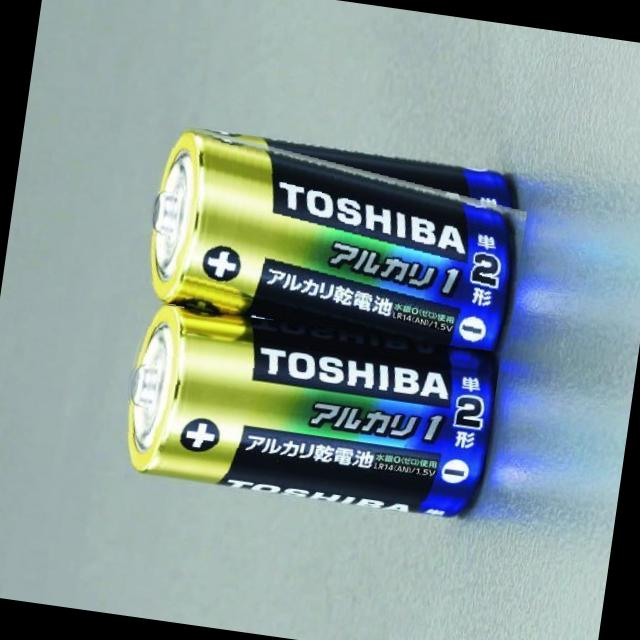Hazard: (135, 117, 533, 352), (113, 296, 502, 522)
